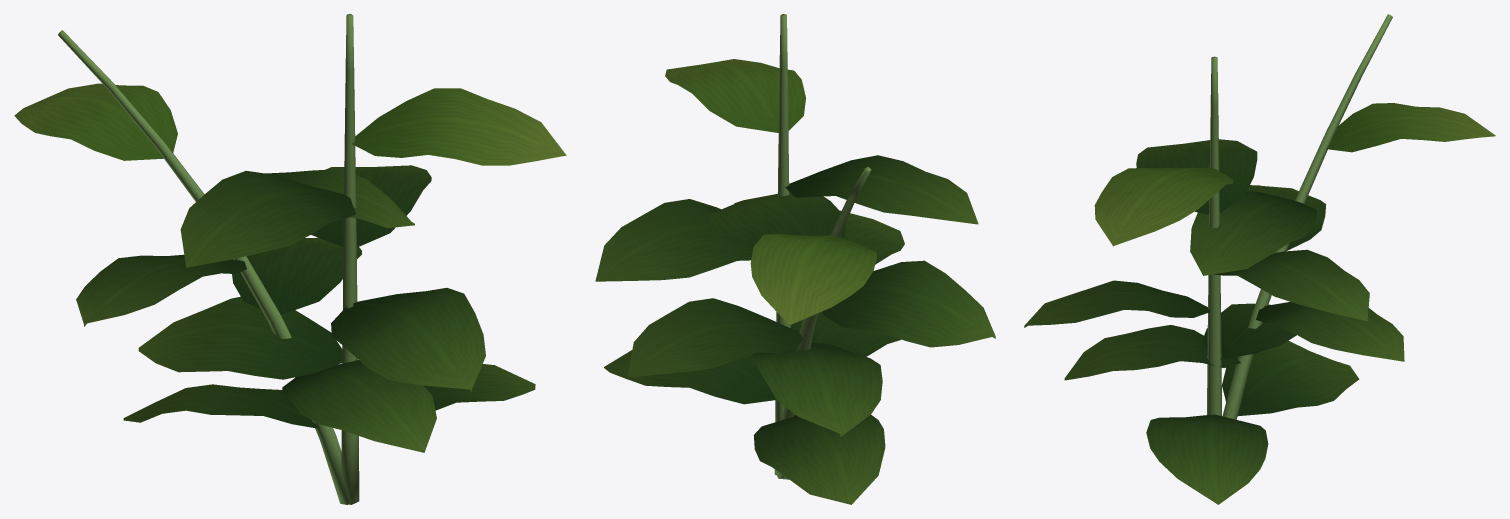
The model's file is poppy-05-lod.glb.
The picture shows the model from 3 angles, left to right: view 1: azimuth 30°, elevation 25°; view 2: azimuth 150°, elevation 25°; view 3: azimuth 270°, elevation 25°; orthographic projection. The views are drawn at different scales.
Parts seen in each view (by area): view 1: poppy_stage_05_leaf_veins.009, poppy_stage_05_young_leaf.009, poppy_stage_05_stem_fibres.009; view 2: poppy_stage_05_leaf_veins.009, poppy_stage_05_young_leaf.009, poppy_stage_05_stem_fibres.009; view 3: poppy_stage_05_leaf_veins.009, poppy_stage_05_young_leaf.009, poppy_stage_05_stem_fibres.009.
Part boxes in pixels (x1,y1,x2,y2): poppy_stage_05_leaf_veins.009: [76, 165, 535, 452]; poppy_stage_05_young_leaf.009: [14, 83, 566, 165]; poppy_stage_05_stem_fibres.009: [58, 14, 359, 504]; poppy_stage_05_leaf_veins.009: [595, 155, 995, 504]; poppy_stage_05_young_leaf.009: [665, 59, 876, 325]; poppy_stage_05_stem_fibres.009: [774, 14, 871, 479]; poppy_stage_05_leaf_veins.009: [1024, 139, 1404, 504]; poppy_stage_05_young_leaf.009: [1094, 103, 1495, 246]; poppy_stage_05_stem_fibres.009: [1207, 14, 1392, 419].
Size of the model in its own units: 0.2025 by 0.2181 by 0.2175.
Materials: 3 (2 with a texture image).
